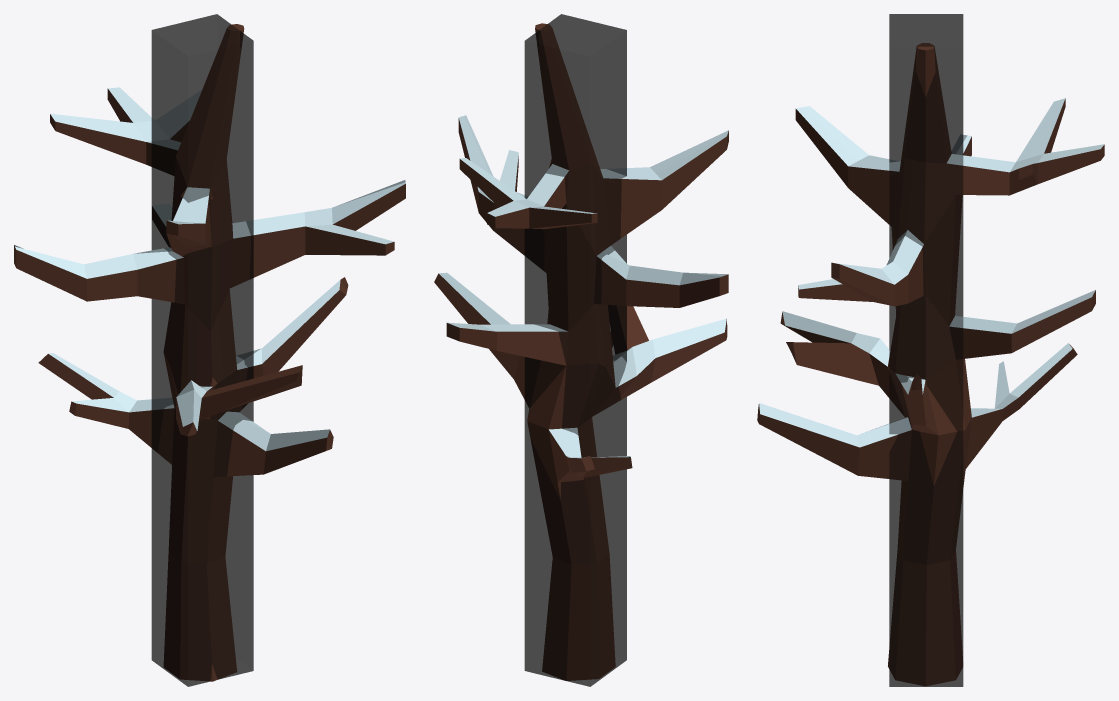
File: DeadTreeSnow.fbx
3 views of the same model, side by side, from view 1: azimuth 30°, elevation 25°; view 2: azimuth 150°, elevation 25°; view 3: azimuth 270°, elevation 25° (orthographic).
Parts seen in each view (by area): view 1: DeadTreeSnow, DeadTreeSnow_BBox; view 2: DeadTreeSnow, DeadTreeSnow_BBox; view 3: DeadTreeSnow, DeadTreeSnow_BBox.
Boxes of the visible parts, x1,y1,x2,y2 form: DeadTreeSnow: (14, 24, 405, 681); DeadTreeSnow_BBox: (151, 14, 253, 686); DeadTreeSnow: (434, 23, 728, 680); DeadTreeSnow_BBox: (524, 14, 626, 686); DeadTreeSnow: (757, 43, 1104, 686); DeadTreeSnow_BBox: (889, 14, 963, 686).
Bounding box in the file's own units: 15.2 × 27.78 × 13.66.
